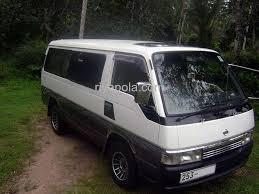Van: (39, 36, 256, 191)
